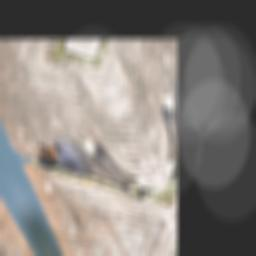Swallow: (29, 105, 151, 237)
